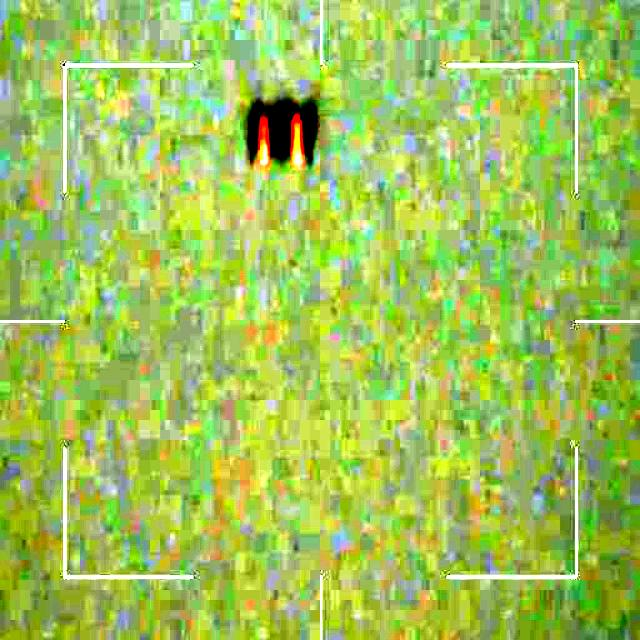bird: (242, 94, 322, 160)
